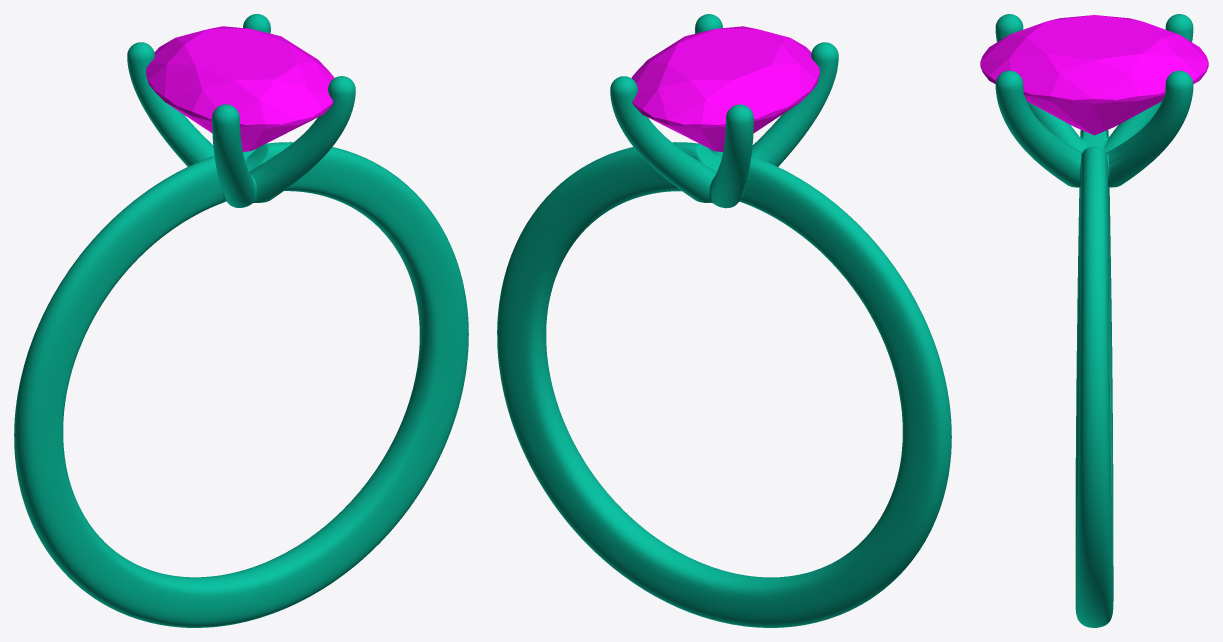
The model's file is BE14112_OV_200ct_RENDER.glb.
3 views of the same model, side by side, from view 1: azimuth 30°, elevation 25°; view 2: azimuth 150°, elevation 25°; view 3: azimuth 270°, elevation 25° (orthographic).
Parts seen in each view (by area): view 1: Metal 01, CS_Diamond_Oval; view 2: Metal 01, CS_Diamond_Oval; view 3: Metal 01, CS_Diamond_Oval.
Boxes of the visible parts, left/top/right/bottom form: Metal 01: left=14, top=14, right=468, bottom=627; CS_Diamond_Oval: left=146, top=26, right=334, bottom=151; Metal 01: left=497, top=14, right=951, bottom=627; CS_Diamond_Oval: left=631, top=26, right=819, bottom=152; Metal 01: left=995, top=14, right=1193, bottom=627; CS_Diamond_Oval: left=980, top=15, right=1208, bottom=135.
Size of the model in its own units: 20.51 by 24.64 by 9.
